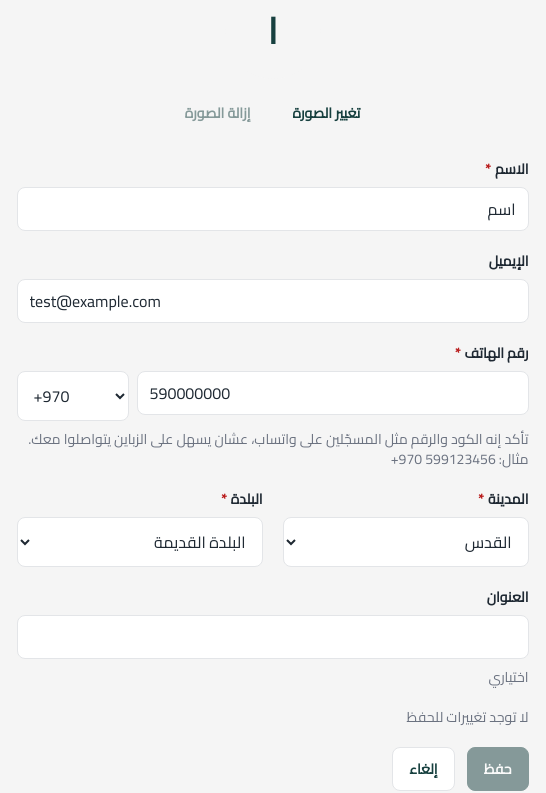
selects the saved city and town when options load asynchronously and clears town on city change
Later steps or results of the test are not shown.
Check: the dropdown labelled "البلدة*" shows "البلدة القديمة", box x1=16 y1=517 x2=262 y2=567
Select "رام الله" in the dropdown labelled "المدينة*" at (406, 542), box x1=282 y1=517 x2=528 y2=567
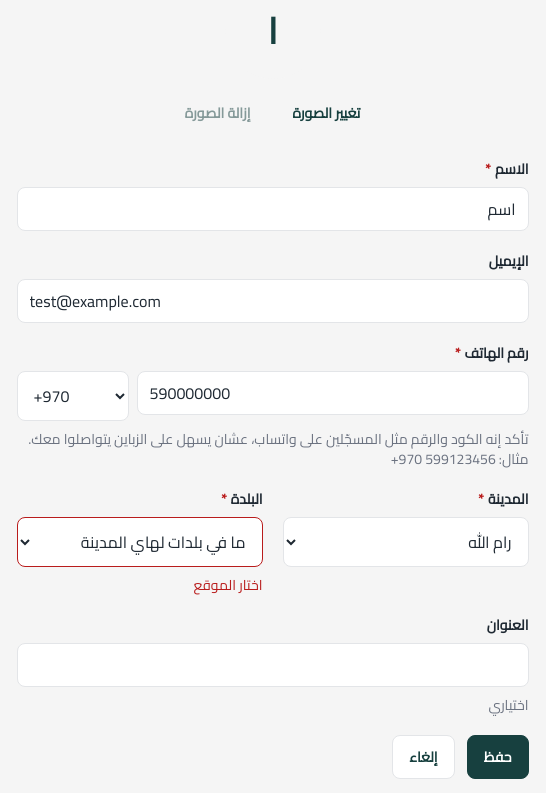
Check: the dropdown labelled "البلدة*" shows "ما في بلدات لهاي المدينة", box x1=16 y1=517 x2=262 y2=567
